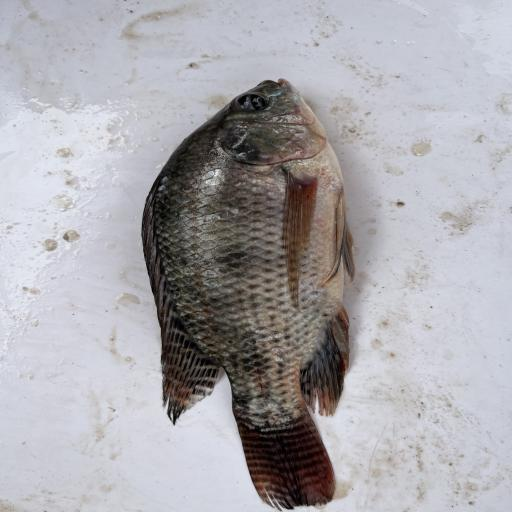Tilapia: (142, 79, 356, 511)
